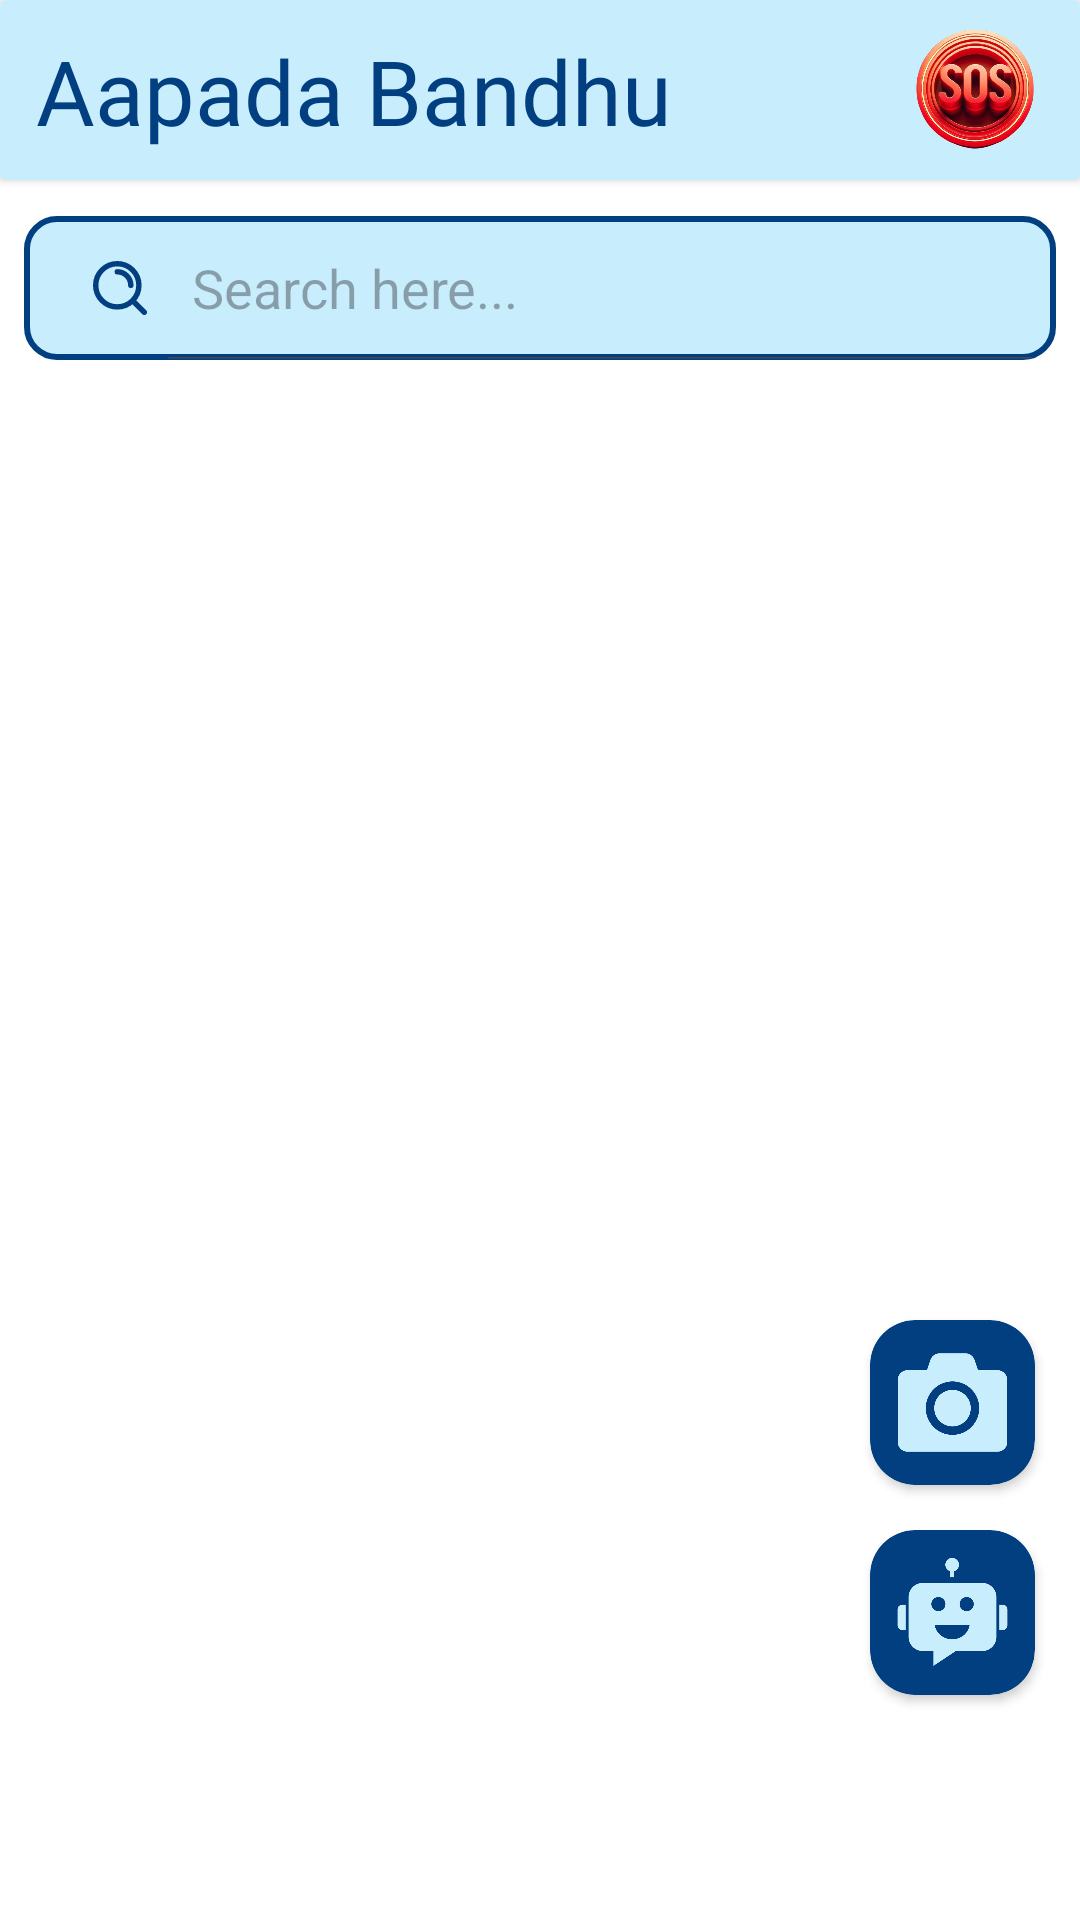

Where icons sit on this 1080*1920 app screen, as (x1, y1, x2, y2):
camera: (870, 1320, 1035, 1485)
chatbot: (870, 1530, 1035, 1695)
